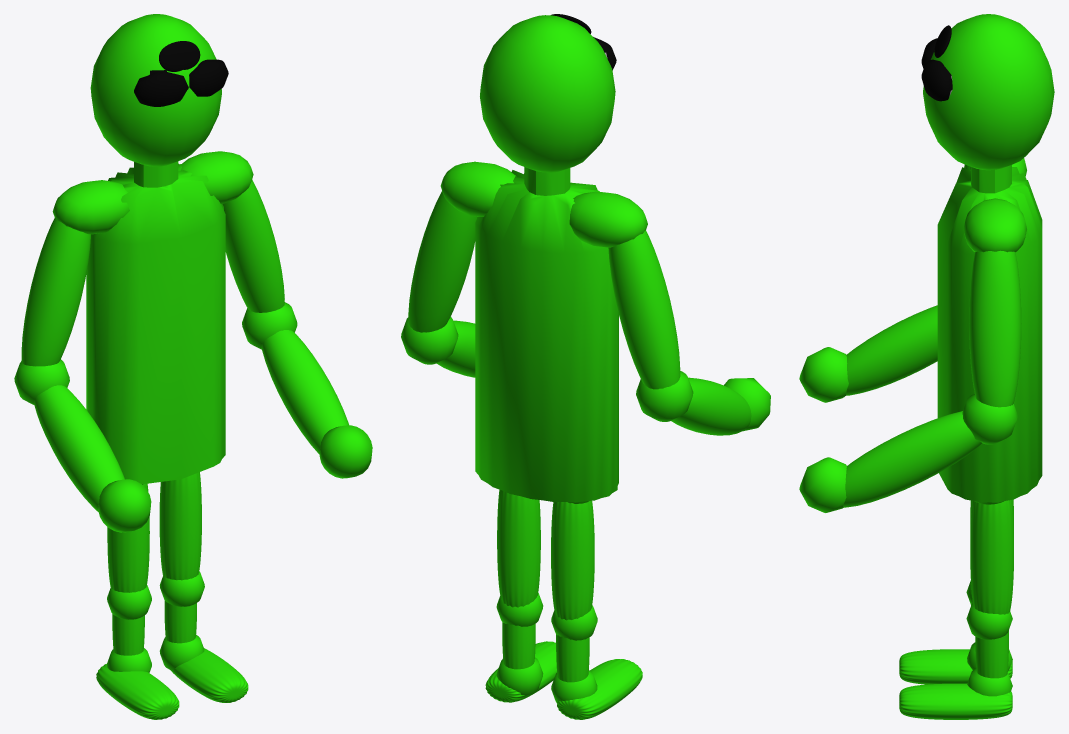
File: alien-boss.fbx
3 views of the same model, side by side, from view 1: azimuth 30°, elevation 25°; view 2: azimuth 150°, elevation 25°; view 3: azimuth 270°, elevation 25° (orthographic). The views are drawn at different scales.
Parts seen in each view (by area): view 1: pCylinder8; view 2: pCylinder8; view 3: pCylinder8.
Boxes of the visible parts, x1,y1,x2,y2 form: pCylinder8: [14, 14, 372, 719]; pCylinder8: [401, 14, 770, 719]; pCylinder8: [799, 14, 1054, 719].
Size of the model in its own units: 3.32 by 7.65 by 2.6.
